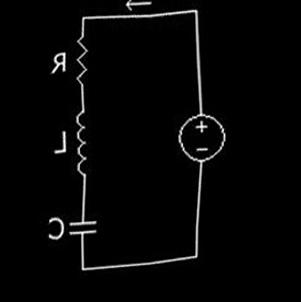Battery: (168, 104, 234, 173)
